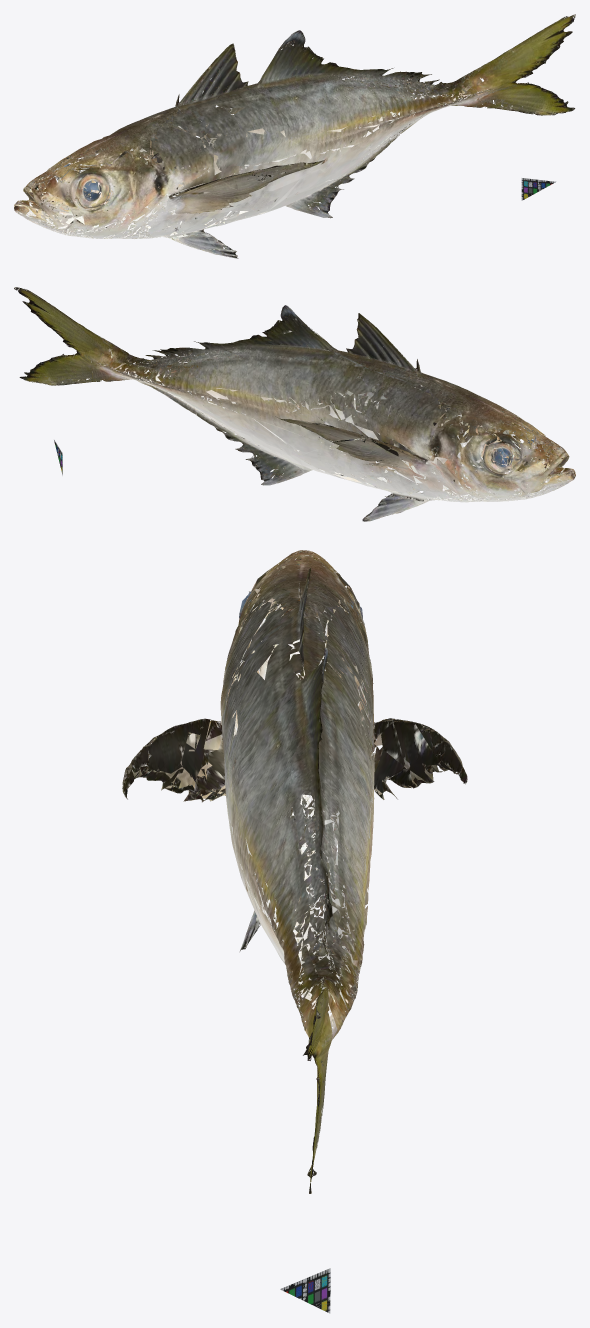
The model's file is fish_whole.glb.
The picture shows the model from 3 angles, top to bottom: view 1: azimuth 30°, elevation 25°; view 2: azimuth 150°, elevation 25°; view 3: azimuth 270°, elevation 25°; orthographic projection. The views are drawn at different scales.
Parts seen in each view (by area): view 1: Object_6, Object_11, Object_4; view 2: Object_6, Object_11; view 3: Object_6, Object_11, Object_4.
Boxes of the visible parts, x1=… form: Object_6: x1=15, y1=14, x2=575, y2=256; Object_11: x1=14, y1=15, x2=575, y2=258; Object_4: x1=521, y1=178, x2=556, y2=200; Object_6: x1=14, y1=287, x2=575, y2=509; Object_11: x1=14, y1=287, x2=575, y2=521; Object_6: x1=122, y1=550, x2=462, y2=1193; Object_11: x1=122, y1=550, x2=467, y2=1193; Object_4: x1=280, y1=1268, x2=330, y2=1313.
Size of the model in its own units: 15.15 by 5.98 by 4.05.
3 materials, 3 textured.
